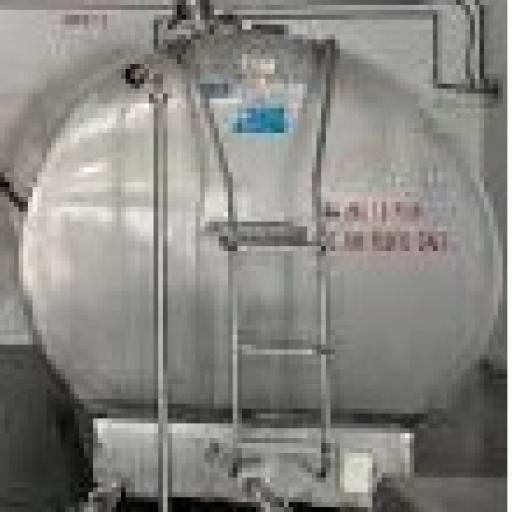silo: (19, 5, 493, 507)
